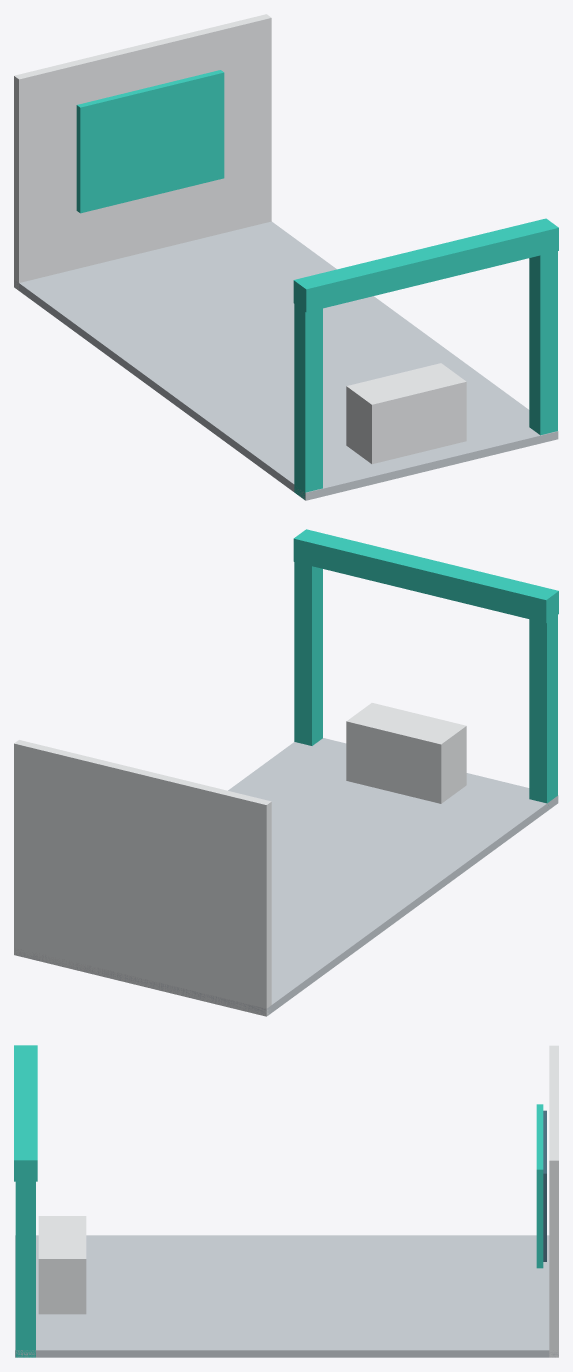
3 renders of one model, top to bottom at view 1: azimuth 30°, elevation 25°; view 2: azimuth 150°, elevation 25°; view 3: azimuth 270°, elevation 25°, orthographic. The views are drawn at different scales.
Visible parts, largest first — view 1: Exhibition Booth Concept; view 2: Exhibition Booth Concept; view 3: Exhibition Booth Concept.
Part boxes in pixels (box(x1,y1,x2,y2)): Exhibition Booth Concept: box(14, 14, 558, 500); Exhibition Booth Concept: box(14, 529, 558, 1016); Exhibition Booth Concept: box(14, 1045, 558, 1357).
Bounding box in the file's own units: 4 × 3.2 × 8.01.
